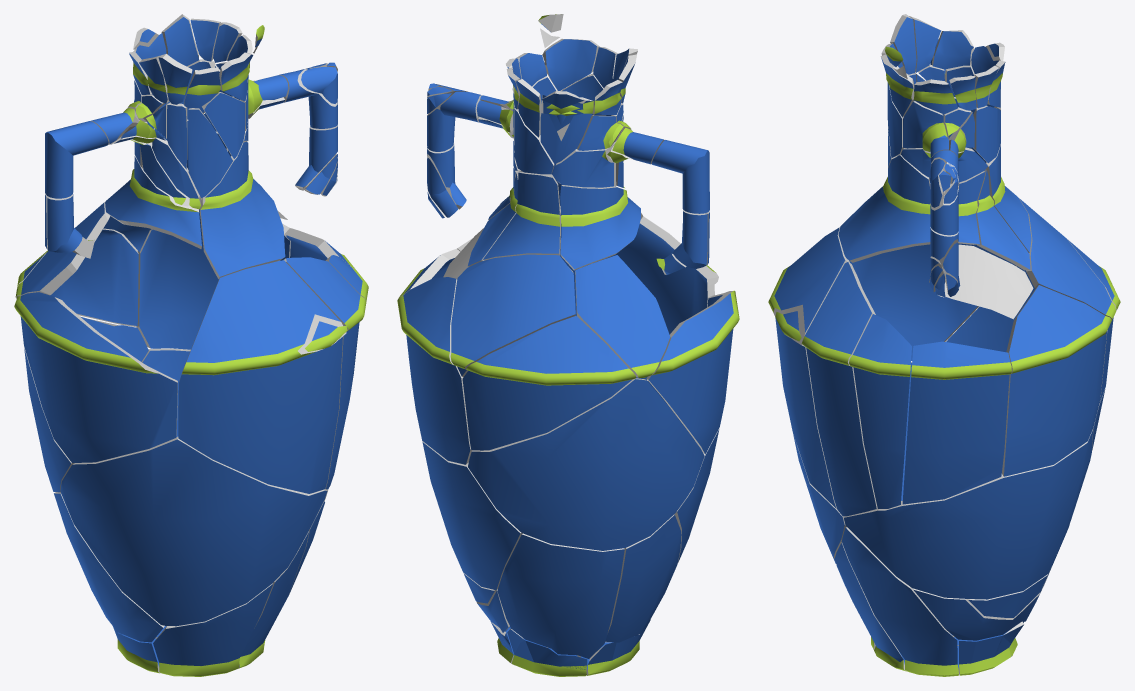
The model's file is PotBroken.fbx.
3 views of the same model, side by side, from view 1: azimuth 30°, elevation 25°; view 2: azimuth 150°, elevation 25°; view 3: azimuth 270°, elevation 25° (orthographic). The views are drawn at different scales.
Parts seen in each view (by area): view 1: Cylinder.001_cell.050, Cylinder.001_cell.079, Cylinder.001_cell.097, Cylinder.001_cell.066, Cylinder.001_cell.040, Cylinder.001_cell.072, Cylinder.001_cell.069, Cylinder.001_cell.019, Cylinder.001_cell, Cylinder.001_cell.064, Cylinder.001_cell.035, Cylinder.001_cell.053 (+26 smaller); view 2: Cylinder.001_cell.035, Cylinder.001_cell.072, Cylinder.001_cell.083, Cylinder.001_cell.027, Cylinder.001_cell.066, Cylinder.001_cell.097, Cylinder.001_cell.031, Cylinder.001_cell.082, Cylinder.001_cell, Cylinder.001_cell.079, Cylinder.001_cell.064, Cylinder.001_cell.021 (+25 smaller); view 3: Cylinder.001_cell.082, Cylinder.001_cell.066, Cylinder.001_cell.098, Cylinder.001_cell.019, Cylinder.001_cell.079, Cylinder.001_cell.067, Cylinder.001_cell.097, Cylinder.001_cell.030, Cylinder.001_cell.040, Cylinder.001_cell.027, Cylinder.001_cell.070, Cylinder.001_cell.063 (+24 smaller).
Boxes of the visible parts, <box> form: Cylinder.001_cell.050: <box>60,436,327,626</box>; Cylinder.001_cell.079: <box>178,260,346,493</box>; Cylinder.001_cell.097: <box>14,292,177,462</box>; Cylinder.001_cell.066: <box>136,209,290,349</box>; Cylinder.001_cell.040: <box>199,141,285,279</box>; Cylinder.001_cell.072: <box>17,228,138,326</box>; Cylinder.001_cell.069: <box>153,583,273,676</box>; Cylinder.001_cell.019: <box>283,257,366,489</box>; Cylinder.001_cell: <box>105,155,201,248</box>; Cylinder.001_cell.064: <box>54,492,164,642</box>; Cylinder.001_cell.035: <box>24,316,148,492</box>; Cylinder.001_cell.053: <box>45,121,108,198</box>; Cylinder.001_cell.035: <box>468,378,704,550</box>; Cylinder.001_cell.072: <box>462,316,635,450</box>; Cylinder.001_cell.083: <box>497,533,624,658</box>; Cylinder.001_cell.027: <box>450,254,575,376</box>; Cylinder.001_cell.066: <box>397,277,472,464</box>; Cylinder.001_cell.097: <box>646,290,739,454</box>; Cylinder.001_cell.031: <box>575,255,670,377</box>; Cylinder.001_cell.082: <box>422,441,522,590</box>; Cylinder.001_cell: <box>560,185,640,270</box>; Cylinder.001_cell.079: <box>560,216,718,380</box>; Cylinder.001_cell.064: <box>605,514,681,642</box>; Cylinder.001_cell.021: <box>483,172,561,260</box>; Cylinder.001_cell.082: <box>844,429,1092,599</box>; Cylinder.001_cell.066: <box>1001,285,1111,476</box>; Cylinder.001_cell.098: <box>902,341,1011,504</box>; Cylinder.001_cell.019: <box>801,262,877,516</box>; Cylinder.001_cell.079: <box>768,227,849,508</box>; Cylinder.001_cell.067: <box>849,314,911,508</box>; Cylinder.001_cell.097: <box>849,243,1016,360</box>; Cylinder.001_cell.030: <box>841,527,958,676</box>; Cylinder.001_cell.040: <box>838,155,930,262</box>; Cylinder.001_cell.027: <box>1019,198,1116,319</box>; Cylinder.001_cell.070: <box>944,244,1033,319</box>; Cylinder.001_cell.063: <box>913,588,1041,640</box>.
Size of the model in its own units: 44.11 by 85.49 by 44.11.
